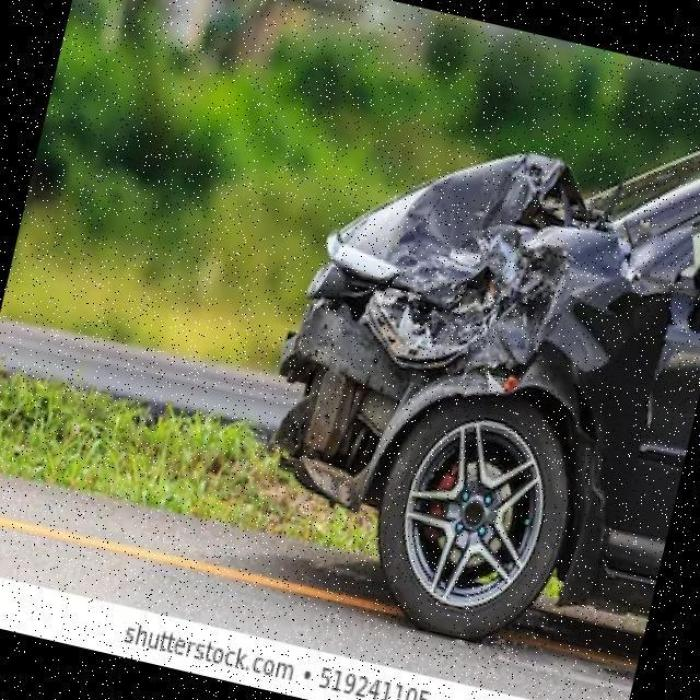Accident: (205, 36, 700, 649)
